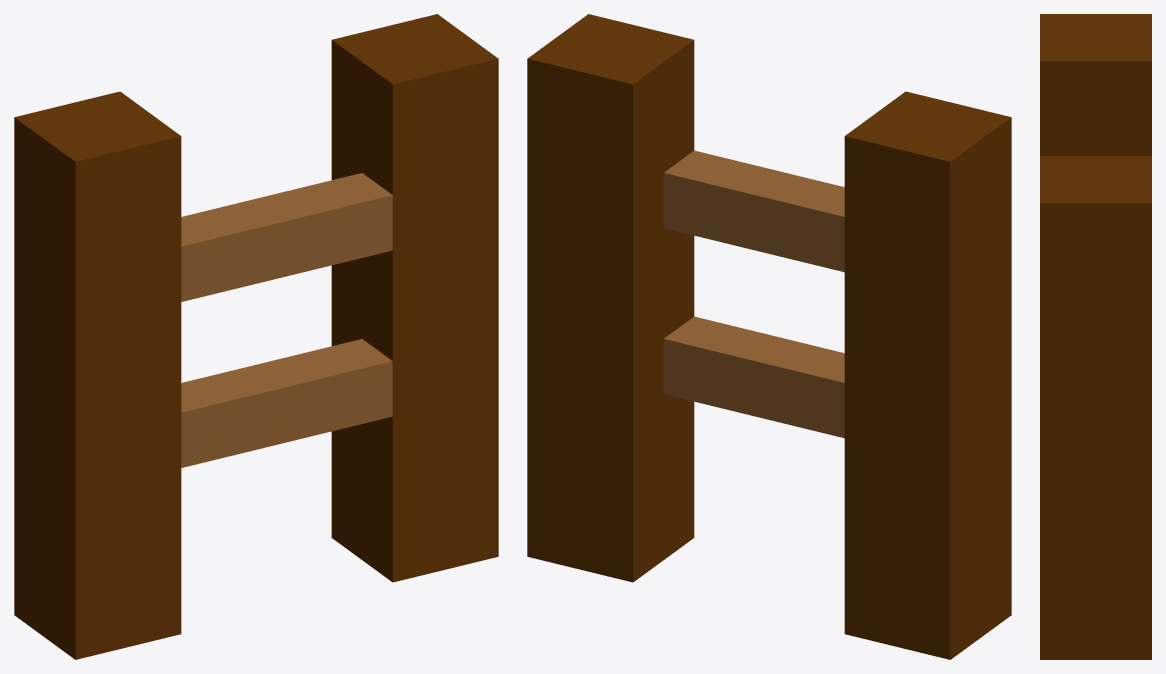
Rendered from hurdle.obj.
3 renders of one model, left to right at view 1: azimuth 30°, elevation 25°; view 2: azimuth 150°, elevation 25°; view 3: azimuth 270°, elevation 25°, orthographic. The views are drawn at different scales.
Size of the model in its own units: 8 by 9 by 2.
